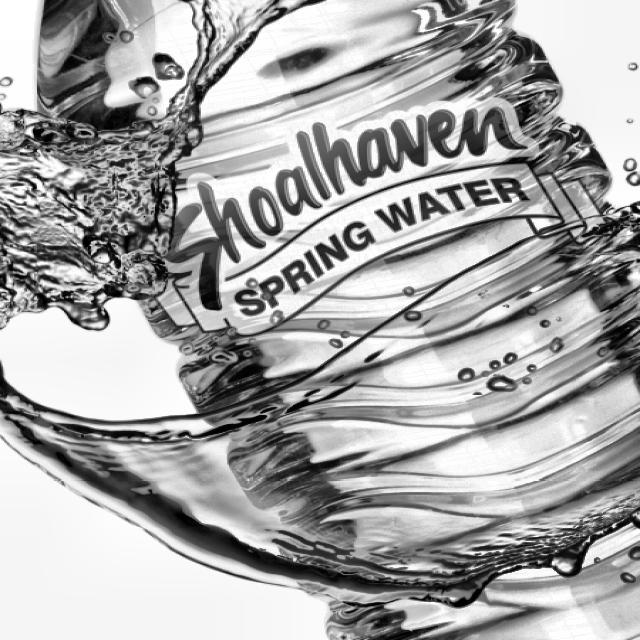bottle: (0, 0, 640, 640)
